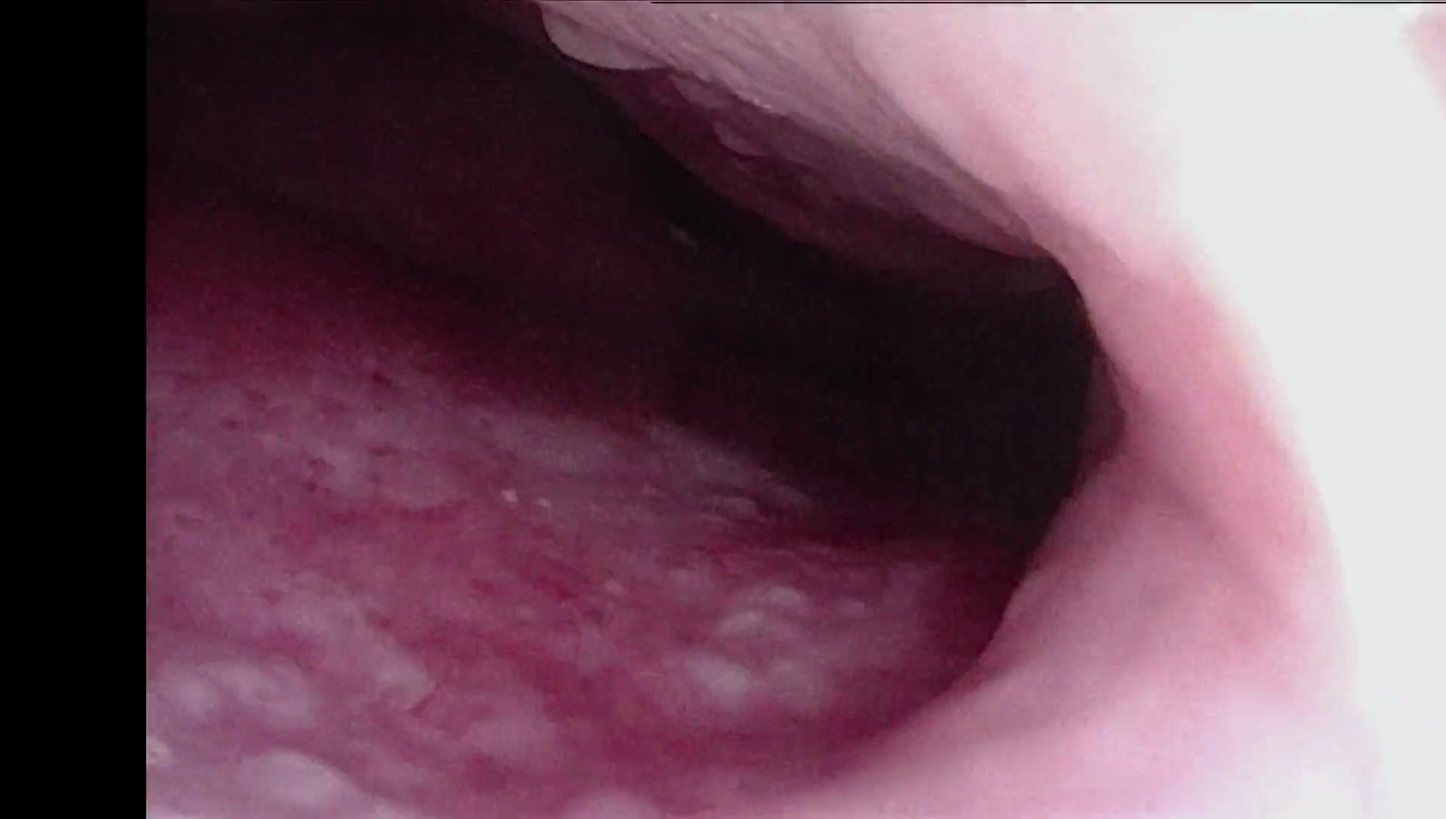close_wall: (1053, 8, 1446, 819)
next: (700, 187, 1007, 501), (840, 269, 1099, 562)
